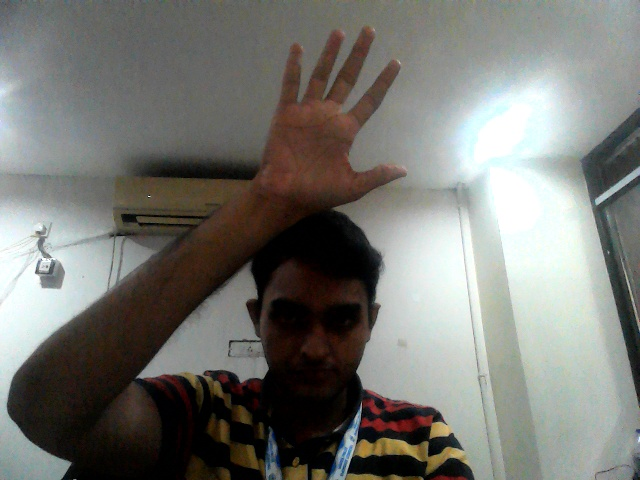palm: (261, 20, 412, 216)
